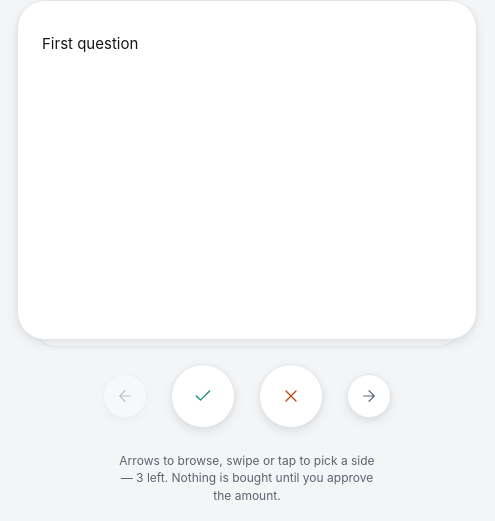
Test: SwipeDeck › counts down what is left, so the deck has an end in sight
The width and height of the screenshot is (495, 521).
Expected: the text "3 left" is shown, [118,452,376,504]
Click the 4th button named "Next market". click: (369, 396)
box: [347,374,391,418]
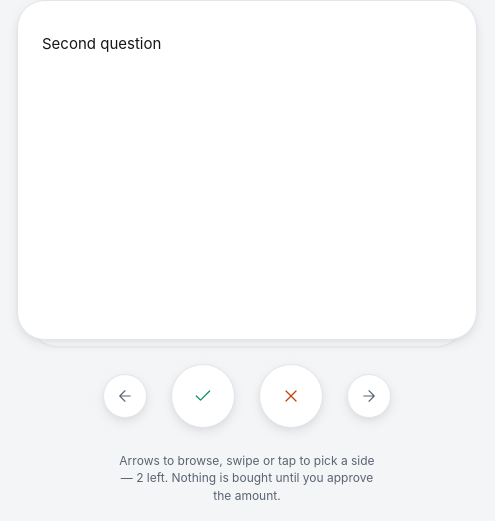
Result: the text "2 left" is shown at [118,452,376,504]
